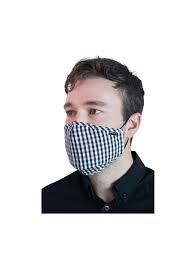FaceMask: (64, 121, 124, 175)
